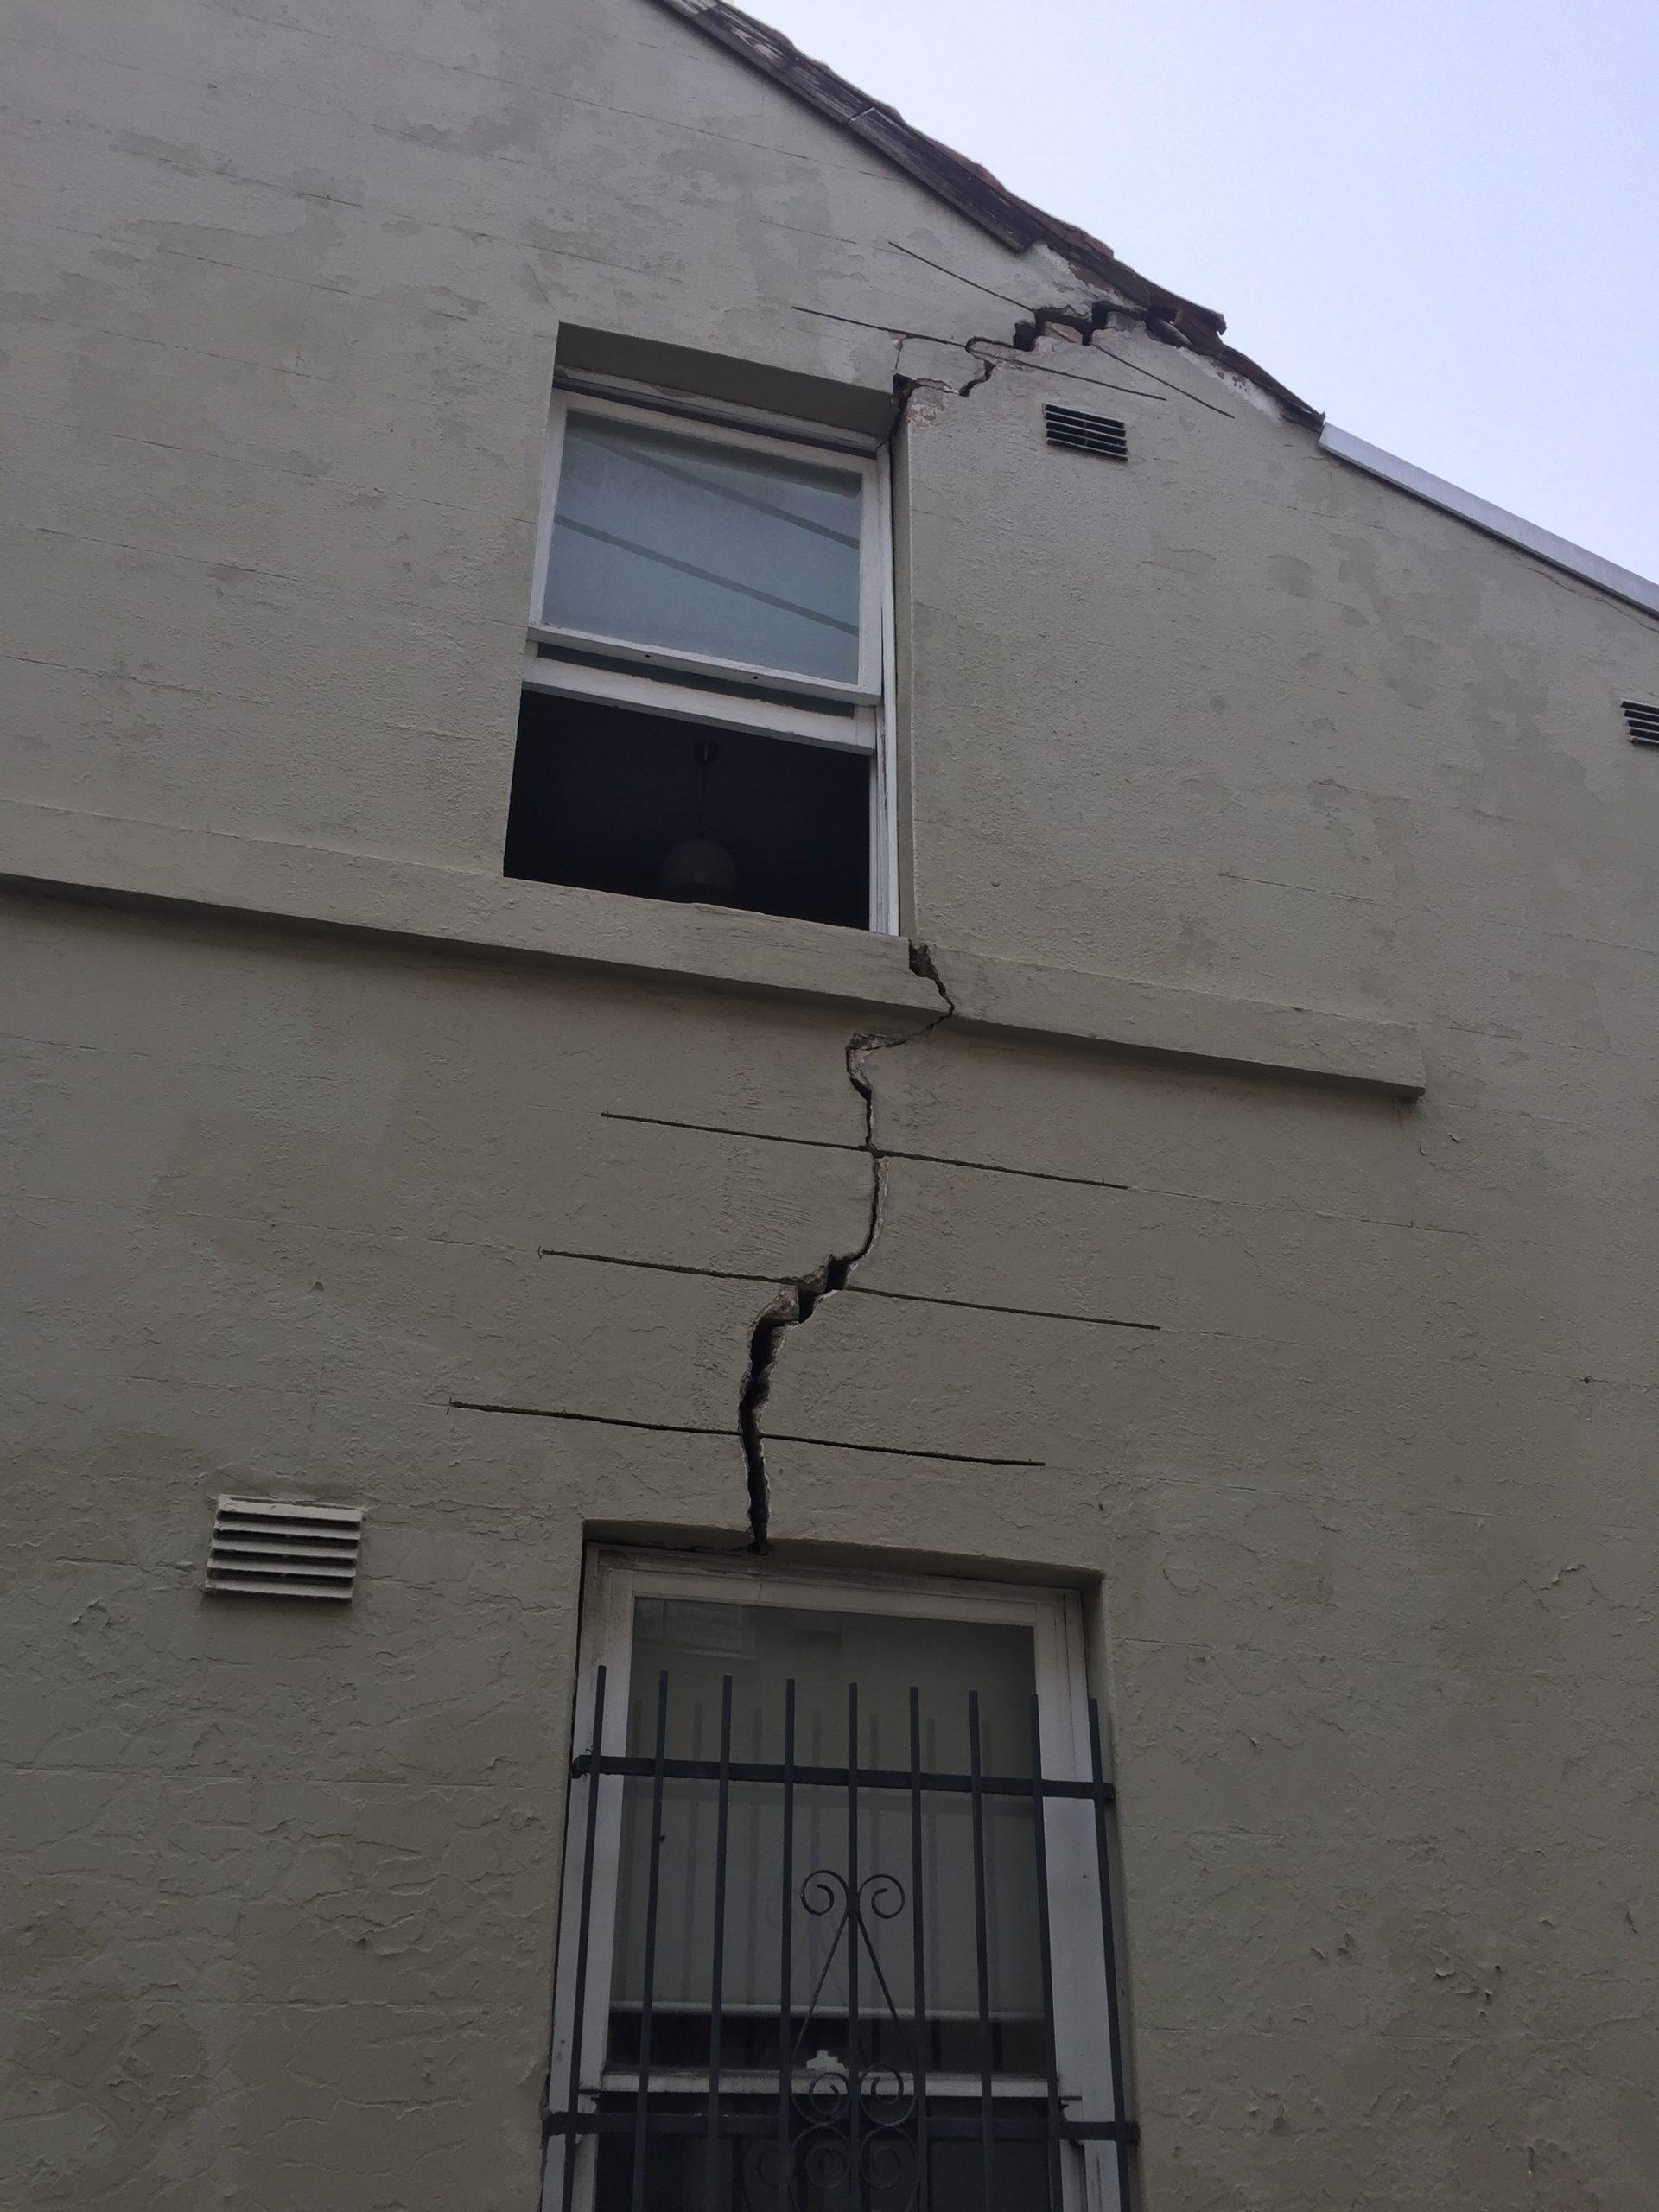crack: (962, 239, 1244, 401), (796, 1155, 934, 1383), (875, 934, 1004, 1123), (714, 1324, 807, 1536)
